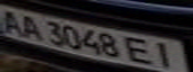0: (60, 22, 81, 52)
3: (39, 19, 66, 47)
4: (78, 27, 103, 56)
8: (100, 30, 121, 61)
A: (15, 12, 45, 42), (0, 7, 27, 36)
E: (124, 35, 157, 65)
I: (148, 39, 184, 71)
